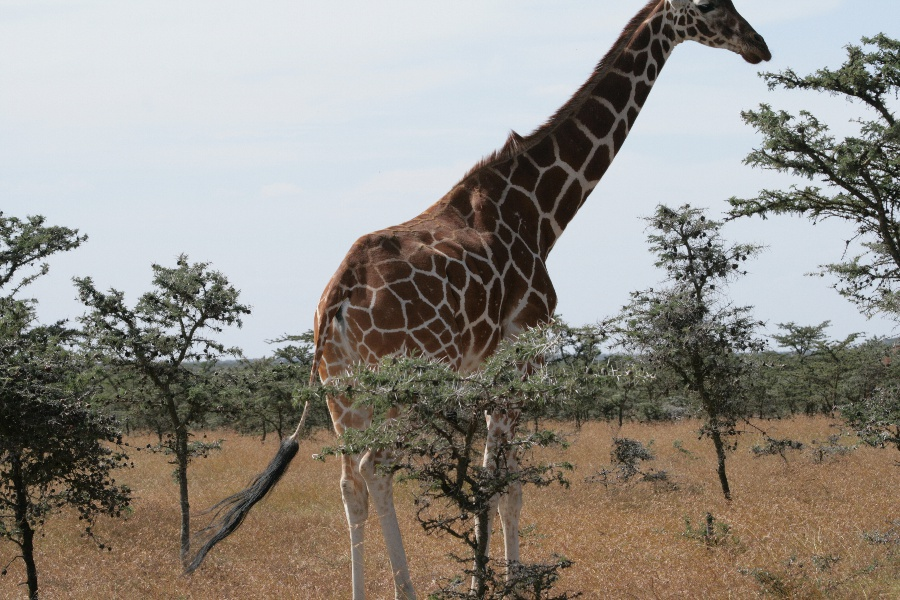giraffe: (265, 0, 776, 598)
